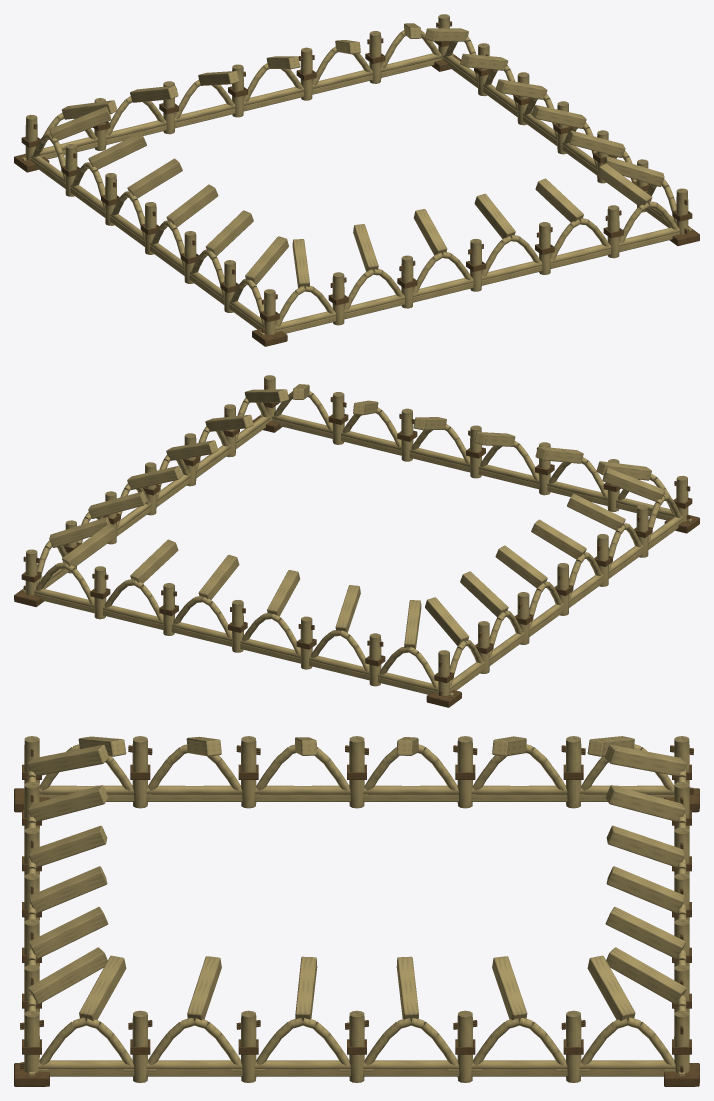
3 renders of one model, top to bottom at view 1: azimuth 30°, elevation 25°; view 2: azimuth 150°, elevation 25°; view 3: azimuth 270°, elevation 25°, orthographic. The views are drawn at different scales.
Visible parts, largest first — view 1: Crown petal 3-0, Crown petal 0-5, Crown petal 3-1, Crown petal 3-2, Crown petal 3-3, Crown petal 0-4, Crown petal 1-0, Crown petal 1-1, Crown petal 3-4, Crown petal 3-5, Crown petal 0-3, Crown petal 1-2 (+16 smaller); view 2: Crown petal 3-5, Crown petal 2-0, Crown petal 3-4, Crown petal 3-3, Crown petal 3-2, Crown petal 3-1, Crown petal 3-0, Crown petal 2-1, Crown petal 1-4, Crown petal 1-5, Crown petal 2-2, Crown petal 1-3 (+16 smaller); view 3: Crown petal 2-0, Crown petal 0-5, Crown petal 2-1, Crown petal 0-4, Crown petal 2-2, Crown petal 0-3, Crown petal 2-3, Crown petal 0-2, Crown petal 2-4, Crown petal 2-5, Crown petal 0-1, Crown petal 0-0 (+46 smaller).
Boxes of the visible parts, x1,y1,x2,y2 form: Crown petal 3-0: (49, 106, 111, 140); Crown petal 0-5: (596, 163, 652, 205); Crown petal 3-1: (88, 132, 146, 169); Crown petal 3-2: (127, 158, 182, 198); Crown petal 3-3: (166, 184, 218, 227); Crown petal 0-4: (535, 178, 583, 222); Crown petal 1-0: (603, 156, 664, 186); Crown petal 1-1: (567, 130, 625, 157); Crown petal 3-4: (205, 210, 253, 256); Crown petal 3-5: (245, 236, 288, 284); Crown petal 0-3: (474, 193, 515, 238); Crown petal 1-2: (531, 105, 586, 128); Crown petal 3-5: (602, 467, 664, 501); Crown petal 2-0: (62, 524, 117, 566); Crown petal 3-4: (567, 493, 625, 530); Crown petal 3-3: (531, 519, 586, 559); Crown petal 3-2: (495, 545, 547, 588); Crown petal 3-1: (460, 571, 508, 617); Crown petal 3-0: (425, 597, 469, 645); Crown petal 2-1: (130, 539, 178, 583); Crown petal 1-4: (88, 491, 146, 518); Crown petal 1-5: (49, 517, 111, 547); Crown petal 2-2: (198, 554, 239, 599); Crown petal 1-3: (127, 466, 182, 489); Crown petal 2-0: (606, 947, 686, 1004); Crown petal 0-5: (27, 947, 107, 1004); Crown petal 2-1: (605, 907, 685, 959); Crown petal 0-4: (28, 907, 108, 959); Crown petal 2-2: (606, 866, 684, 913); Crown petal 0-3: (29, 866, 107, 913); Crown petal 2-3: (606, 825, 684, 867); Crown petal 0-2: (29, 825, 107, 867); Crown petal 2-4: (605, 785, 685, 821); Crown petal 2-5: (605, 744, 686, 776); Crown petal 0-1: (28, 785, 108, 821); Crown petal 0-0: (27, 744, 108, 776).
Size of the model in its own units: 2.85 by 0.4303 by 2.85.
Materials: 2 (2 with a texture image).
